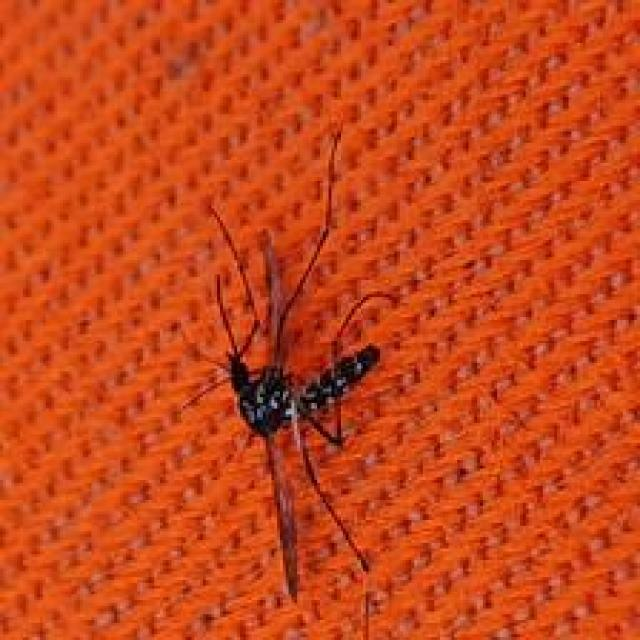Aedes albopictus: (173, 120, 401, 606)
